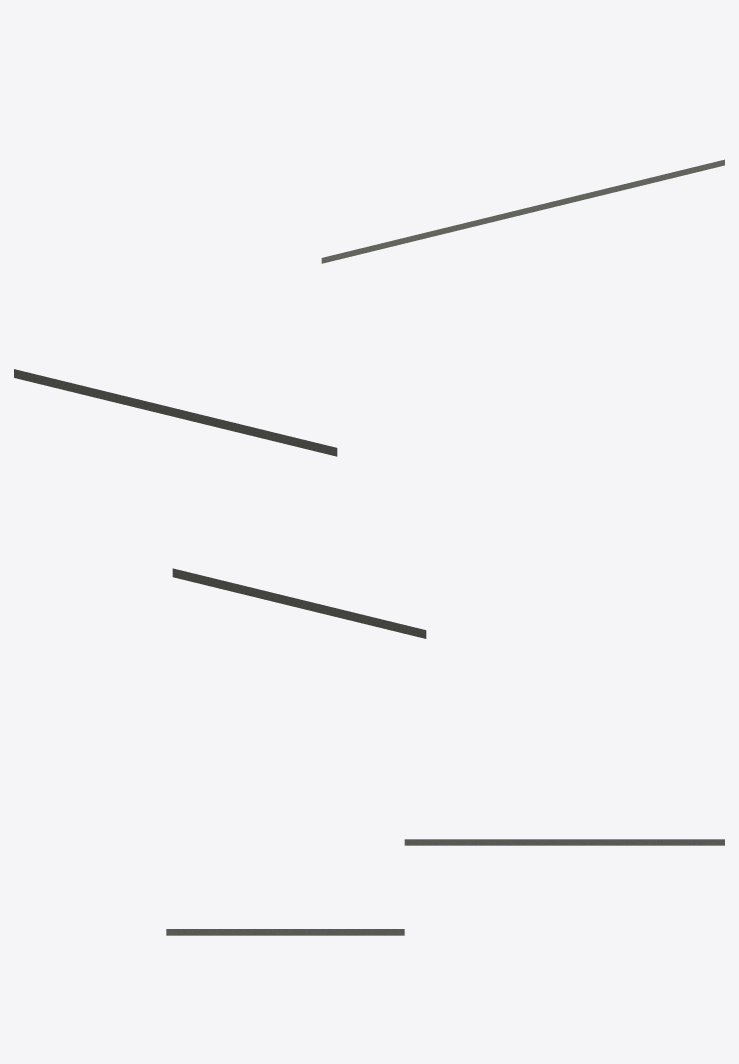
File: kd_stage_135c43_4_20_bounded.glb
3 views of the same model, one above another, from view 1: azimuth 30°, elevation 25°; view 2: azimuth 150°, elevation 25°; view 3: azimuth 270°, elevation 25° (orthographic). The views are drawn at different scales.
Visible parts, largest first — view 1: kd_stage_135c43_4_20_bounded; view 2: kd_stage_135c43_4_20_bounded; view 3: kd_stage_135c43_4_20_bounded.
Part boxes in pixels (x1,y1,x2,y2): kd_stage_135c43_4_20_bounded: [321, 159, 724, 263]; kd_stage_135c43_4_20_bounded: [14, 369, 426, 638]; kd_stage_135c43_4_20_bounded: [166, 839, 724, 935].
Bounding box in the file's own units: 3.58 × 0.05 × 5.02.
1 material, 1 textured.
